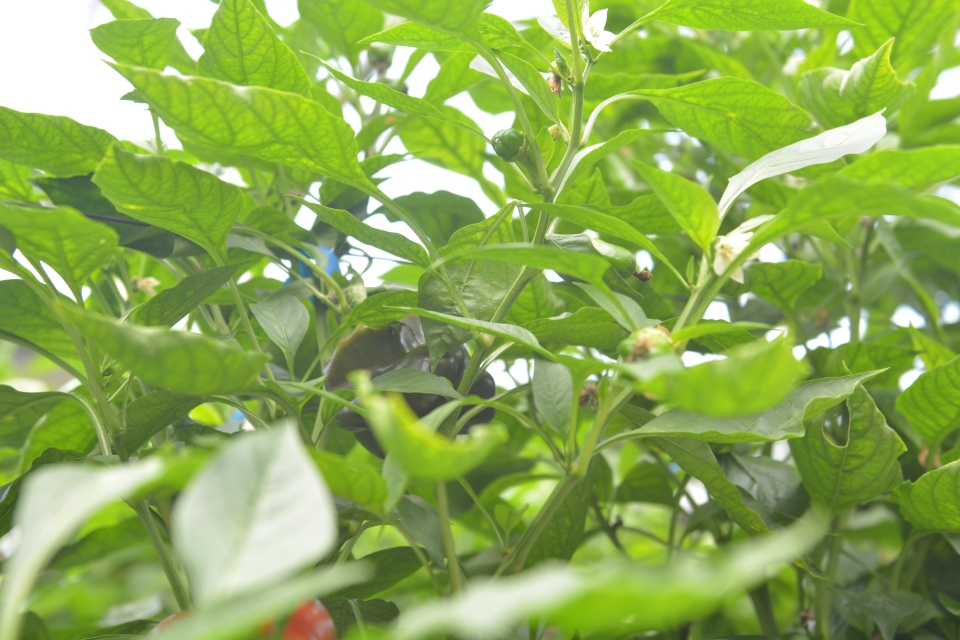flower: (710, 228, 763, 287), (578, 3, 619, 54), (134, 274, 163, 299)
fruit: (333, 336, 498, 462), (140, 591, 335, 640)
immature: (589, 235, 653, 284), (488, 125, 531, 164)
